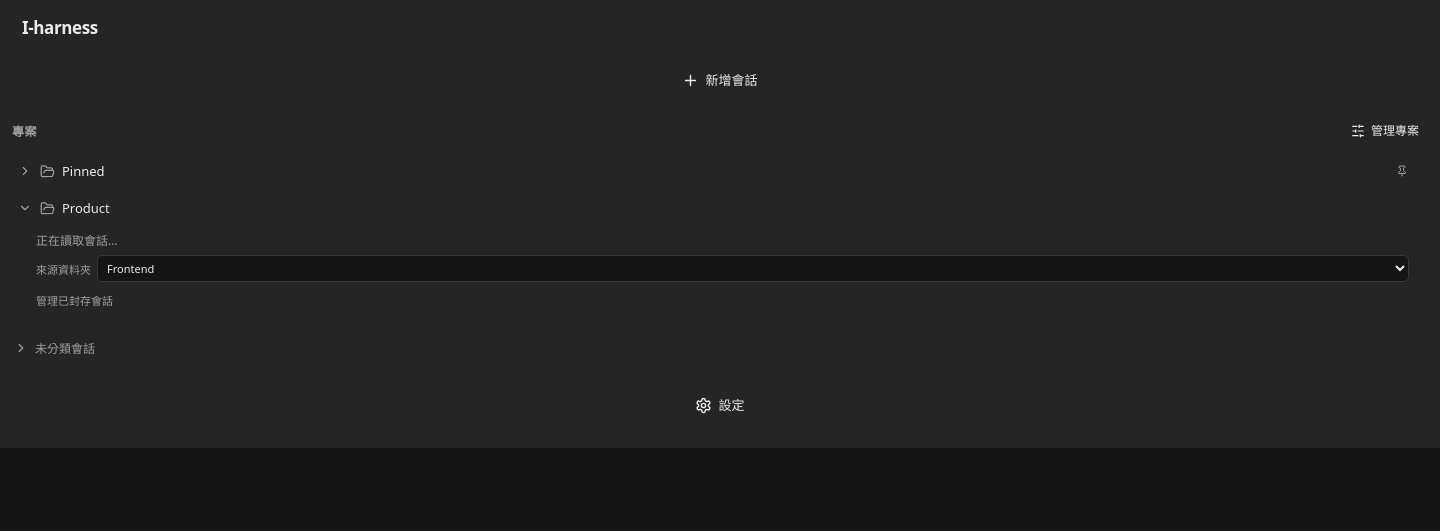
Test case: project conversation sidebar › drops late reads from a collapsed project and stops refreshing its conversations
Click the button named "收合專案 Product". click: [25, 208]
box: 13,193 -> 37,223
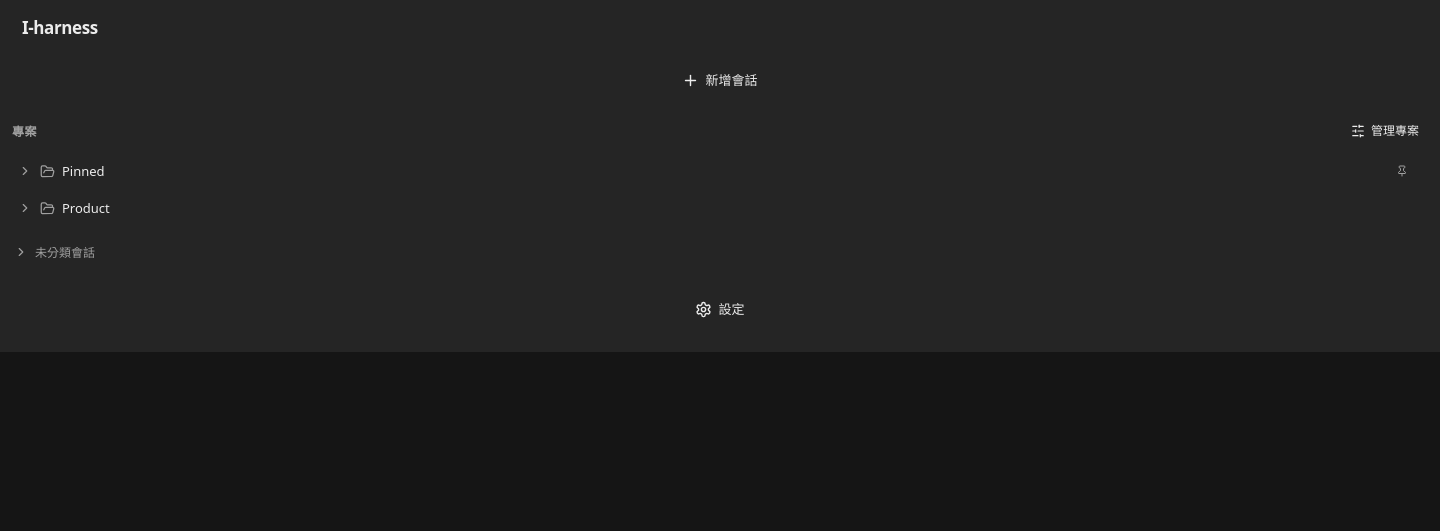
Click the button "Product". click: [86, 208]
box: 40,193 -> 1408,223
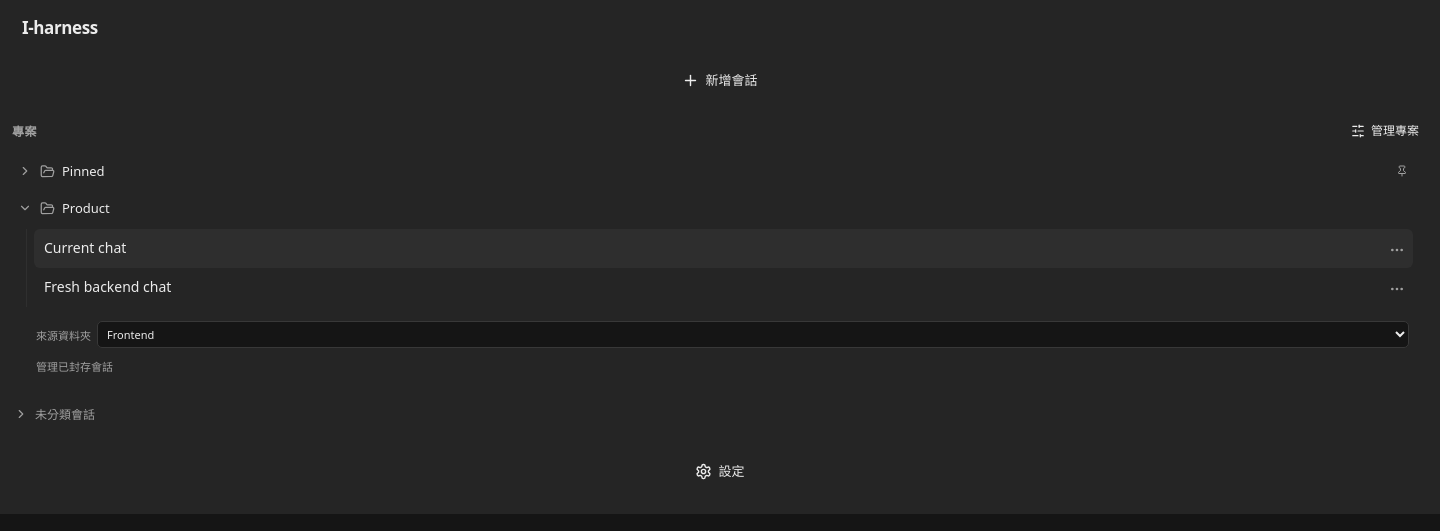
Check: the text "Fresh backend chat" is shown, box 44,277 -> 171,296
